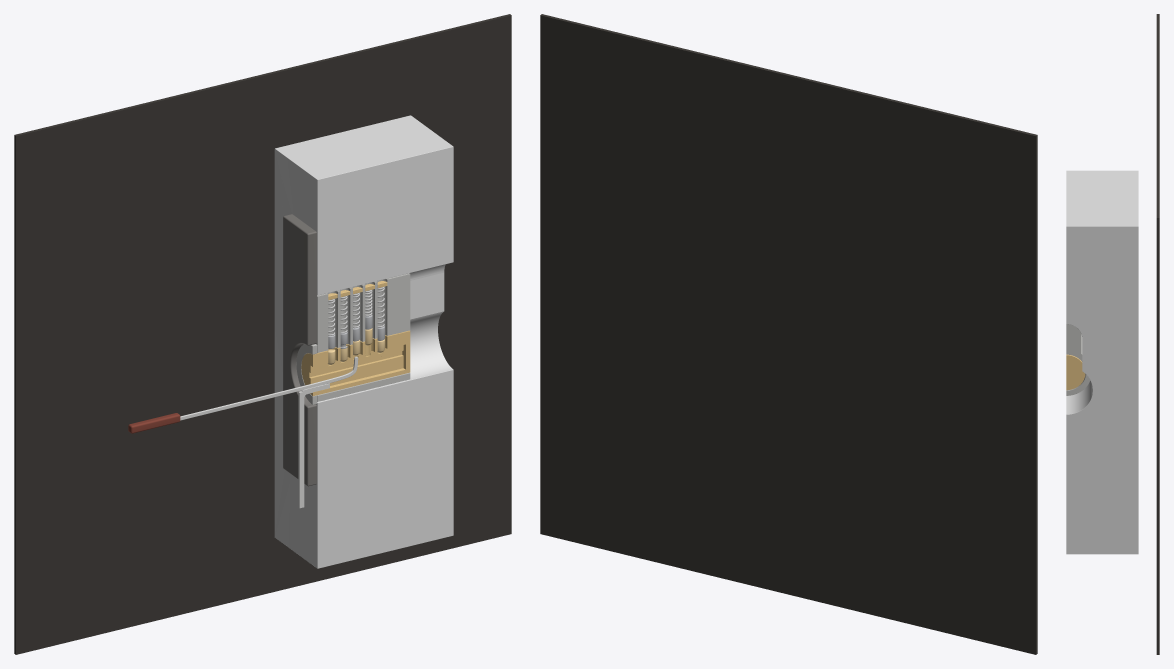
Rendered from cutaway_baked.glb.
3 renders of one model, left to right at view 1: azimuth 30°, elevation 25°; view 2: azimuth 150°, elevation 25°; view 3: azimuth 270°, elevation 25°, orthographic. The views are drawn at different scales.
Visible parts, largest first — view 1: back, door, escutcheon, housing, plug, wrench, pick; view 2: back; view 3: door, back, housing, plug.
Boxes of the visible parts, x1,y1,x2,y2 form: back: (14, 14, 511, 654); door: (274, 115, 453, 568); escutcheon: (283, 214, 316, 486); housing: (316, 273, 410, 401); plug: (301, 330, 410, 396); wrench: (298, 383, 329, 508); pick: (180, 356, 358, 420); back: (540, 14, 1037, 654); door: (1066, 170, 1138, 554); back: (1156, 14, 1159, 654); housing: (1066, 324, 1090, 395); plug: (1066, 354, 1085, 390).
Size of the model in its own units: 160 by 160 by 31.
